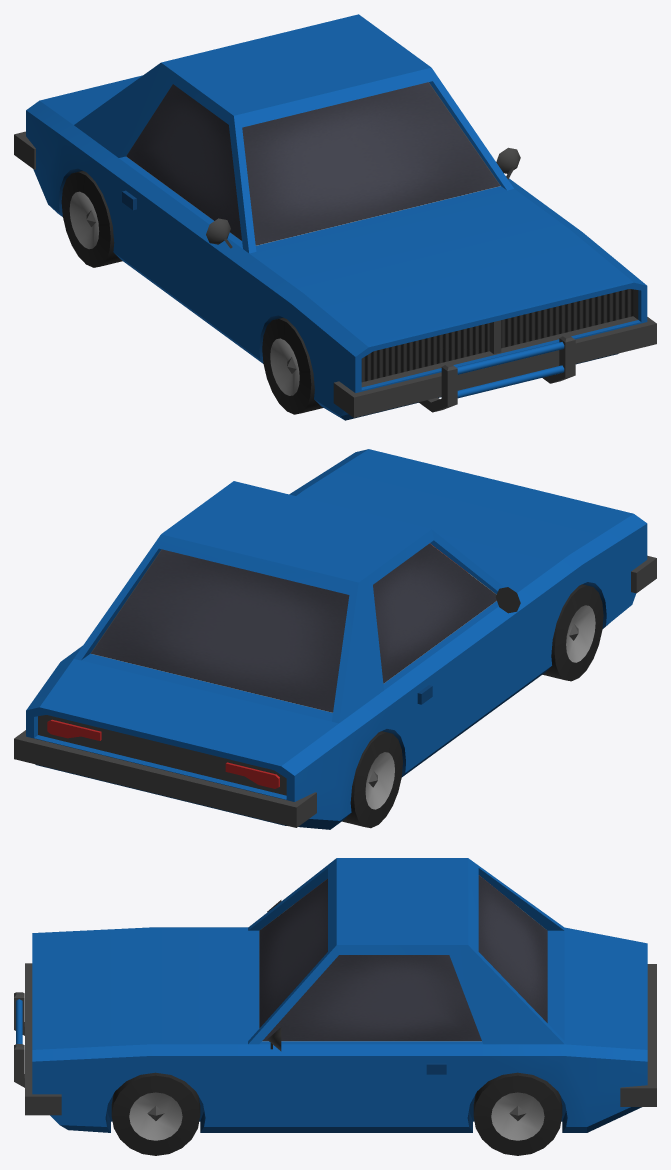
The model's file is Car_B5.fbx.
The picture shows the model from 3 angles, top to bottom: view 1: azimuth 30°, elevation 25°; view 2: azimuth 150°, elevation 25°; view 3: azimuth 270°, elevation 25°; orthographic projection. The views are drawn at different scales.
Parts seen in each view (by area): view 1: Car2_Body, Car2_RF, Car2_RR; view 2: Car2_Body, Car2_RR, Car2_RF; view 3: Car2_Body, Car2_LR, Car2_LF.
Boxes of the visible parts, left/top/right/bottom form: Car2_Body: left=14, top=14, right=656, bottom=420; Car2_RF: left=262, top=317, right=323, bottom=414; Car2_RR: left=61, top=171, right=122, bottom=267; Car2_Body: left=14, top=449, right=656, bottom=829; Car2_RR: left=342, top=731, right=402, bottom=828; Car2_RF: left=542, top=584, right=603, bottom=681; Car2_Body: left=14, top=858, right=656, bottom=1132; Car2_LR: left=473, top=1072, right=562, bottom=1155; Car2_LF: left=111, top=1072, right=200, bottom=1155.
Size of the model in its own units: 206 by 132 by 404.
Materials: 1 (1 with a texture image).
